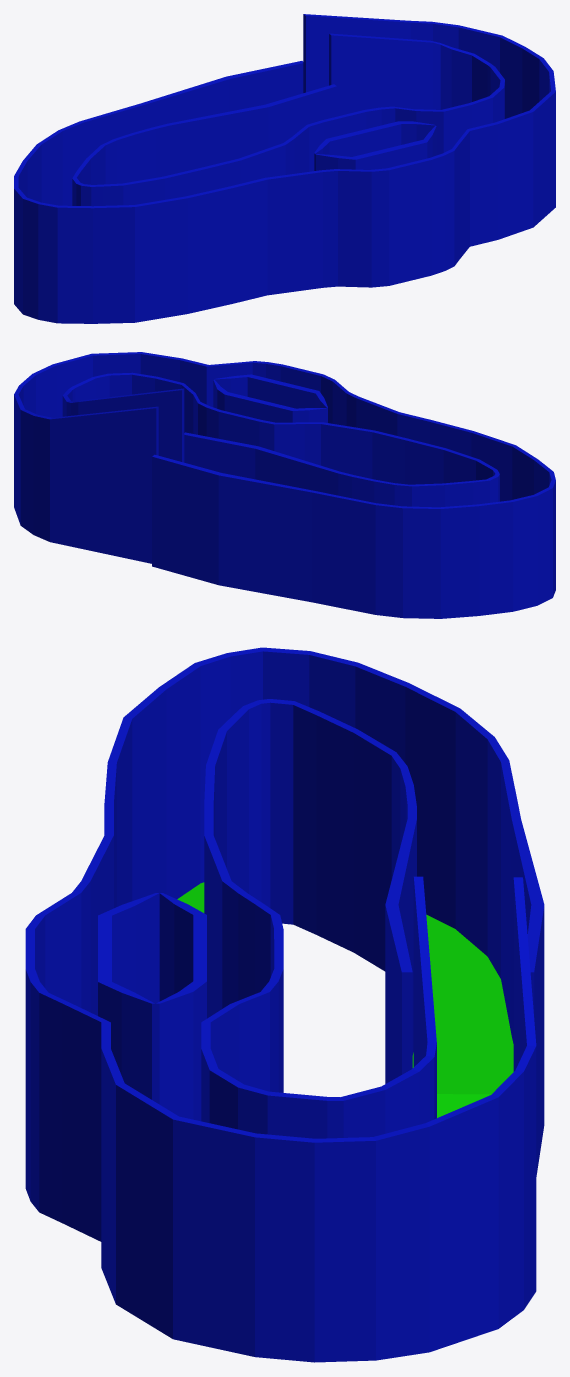
The model's file is High_Jump_Collisionmap.dae.
The picture shows the model from 3 angles, top to bottom: view 1: azimuth 30°, elevation 25°; view 2: azimuth 150°, elevation 25°; view 3: azimuth 270°, elevation 25°; orthographic projection. The views are drawn at different scales.
Parts seen in each view (by area): view 1: Cube.001; view 2: Cube.001; view 3: Cube.001.
Boxes of the visible parts, left/top/right/bottom form: Cube.001: left=14, top=14, right=555, bottom=323; Cube.001: left=14, top=352, right=555, bottom=618; Cube.001: left=25, top=647, right=544, bottom=1362.
Size of the model in its own units: 249 by 110 by 73.55.
